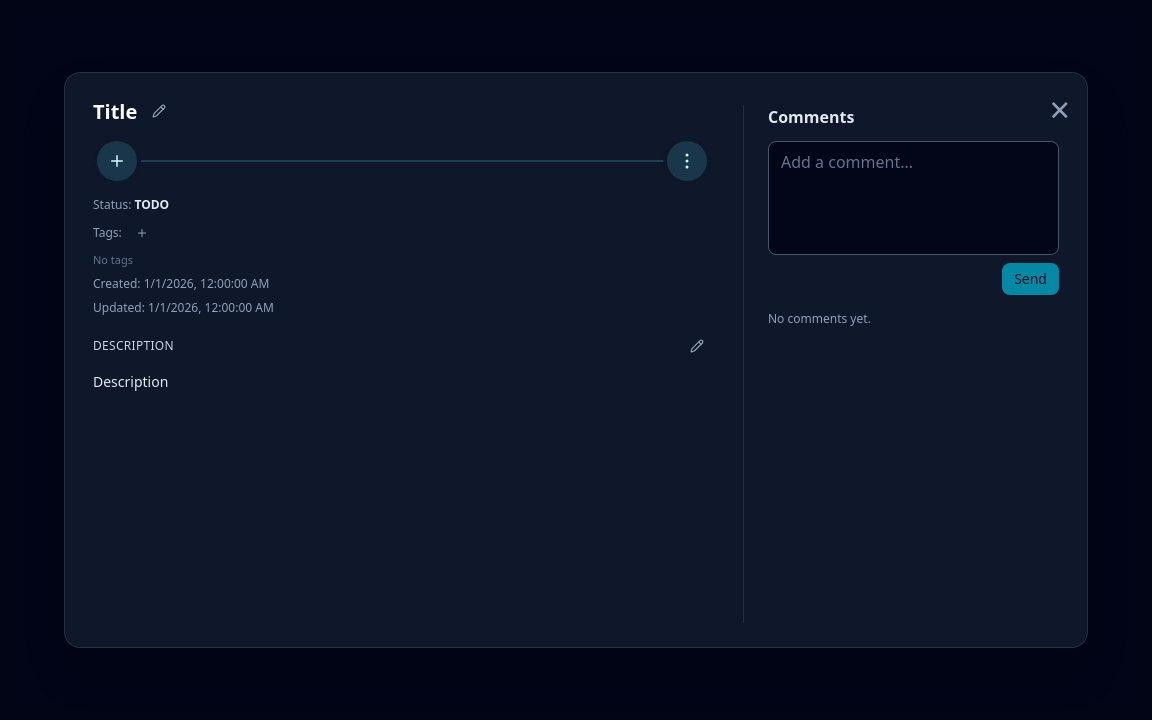
Test: TodoModal › closes only actions menu on Escape and keeps modal open
Click the button with test id "todo-actions-trigger" at x=117, y=161, box [97,141,137,181]
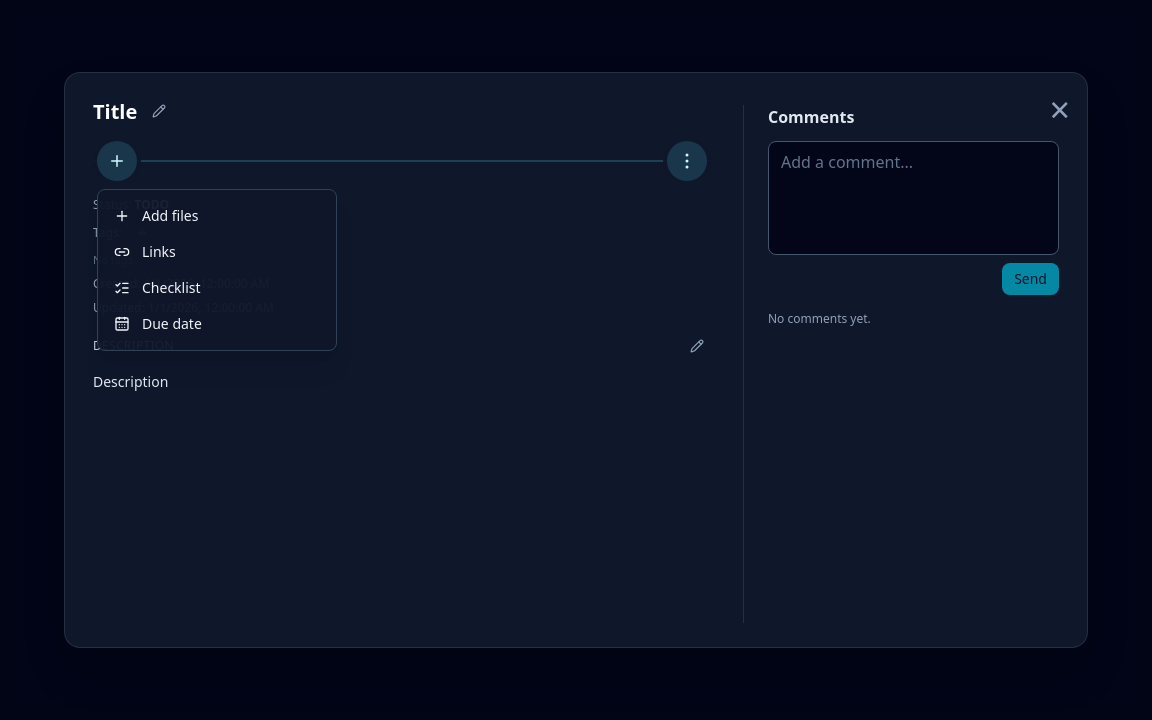
expect the menu with test id "todo-actions-menu" is shown: met, box [97,189,337,351]
Press Escape in the button with test id "todo-actions-trigger", box [97,141,137,181]
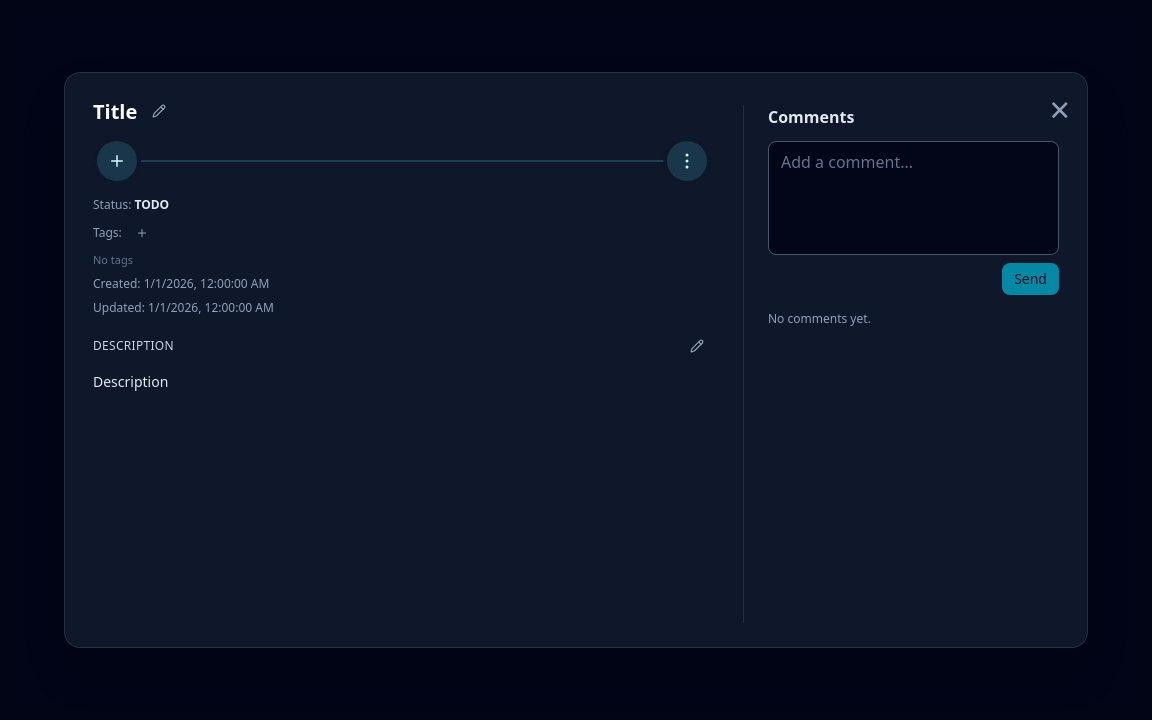
expect the menu with test id "todo-actions-menu" is gone: met
